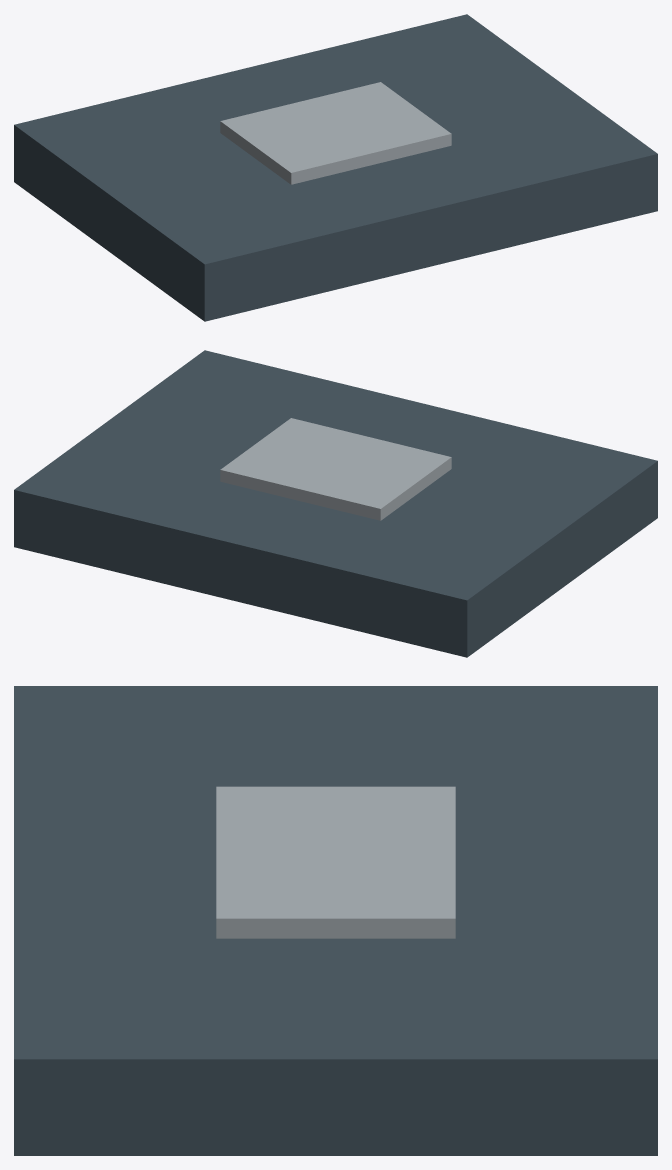
File: sts_trolley.dae
The picture shows the model from 3 angles, top to bottom: view 1: azimuth 30°, elevation 25°; view 2: azimuth 150°, elevation 25°; view 3: azimuth 270°, elevation 25°; orthographic projection. The views are drawn at different scales.
Parts seen in each view (by area): view 1: trolley_frame, hoist_motor; view 2: trolley_frame, hoist_motor; view 3: trolley_frame, hoist_motor.
Boxes of the visible parts, x1=… form: trolley_frame: x1=14, y1=14, x2=657, y2=321; hoist_motor: x1=220, y1=82, x2=451, y2=184; trolley_frame: x1=14, y1=350, x2=657, y2=657; hoist_motor: x1=220, y1=418, x2=451, y2=520; trolley_frame: x1=14, y1=686, x2=657, y2=1155; hoist_motor: x1=216, y1=786, x2=455, y2=938.
Bounding box in the file's own units: 4.8 × 3.5 × 0.82.
